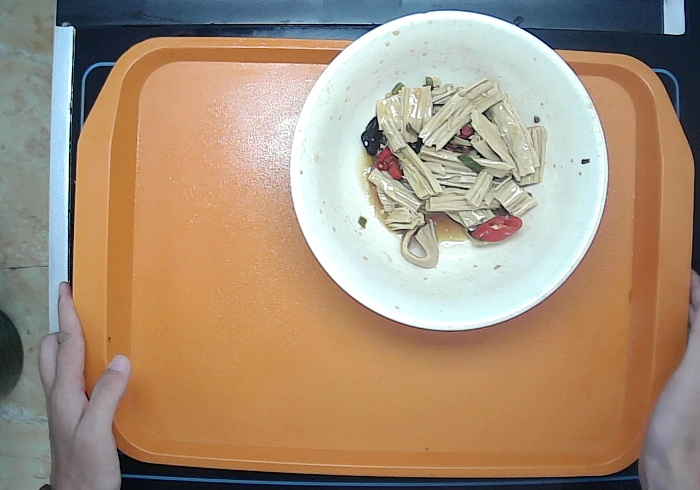ZNLD-Da_Tang_Wan: (285, 7, 617, 344)
